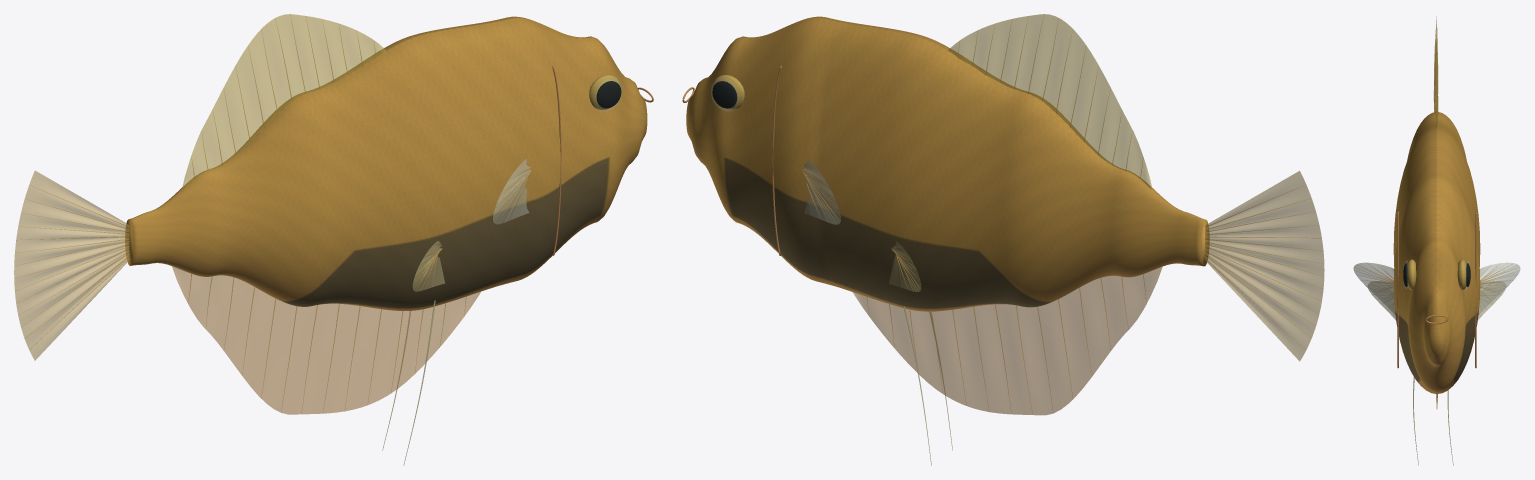
The model's file is honey-desktop.glb.
3 views of the same model, side by side, from view 1: azimuth 30°, elevation 25°; view 2: azimuth 150°, elevation 25°; view 3: azimuth 270°, elevation 25° (orthographic). The views are drawn at different scales.
Visible parts, largest first — view 1: skin, anal, tail, dorsal, dorsal-ray, pelvic-left, pectoral-left; view 2: skin, anal, tail, dorsal, dorsal-ray, pelvic-left, pectoral-left; view 3: skin, pectoral-left, pelvic-left, dorsal-ray, operculum, eye-iris--1, eye-pupil--1, tail.
Boxes of the visible parts, left/top/right/bottom form: skin: left=125, top=16, right=647, bottom=310; anal: left=172, top=266, right=480, bottom=414; tail: left=14, top=170, right=129, bottom=360; dorsal: left=182, top=14, right=385, bottom=188; dorsal-ray: left=15, top=17, right=531, bottom=412; pelvic-left: left=382, top=241, right=444, bottom=465; pectoral-left: left=493, top=159, right=531, bottom=224; skin: left=686, top=16, right=1209, bottom=311; anal: left=853, top=266, right=1162, bottom=415; tail: left=1205, top=171, right=1324, bottom=361; dorsal: left=948, top=14, right=1152, bottom=189; dorsal-ray: left=802, top=17, right=1323, bottom=413; pelvic-left: left=889, top=241, right=952, bottom=465; pectoral-left: left=803, top=159, right=840, bottom=224; skin: left=1393, top=112, right=1480, bottom=393; pectoral-left: left=1353, top=262, right=1520, bottom=315; pelvic-left: left=1368, top=281, right=1505, bottom=465; dorsal-ray: left=1355, top=28, right=1517, bottom=409; operculum: left=1397, top=211, right=1476, bottom=368; eye-iris--1: left=1407, top=259, right=1466, bottom=290; eye-pupil--1: left=1403, top=263, right=1470, bottom=286; tail: left=1434, top=16, right=1437, bottom=112.
Size of the model in its own units: 0.5852 by 0.4136 by 0.1621.
Materials: 11 (1 with a texture image).
